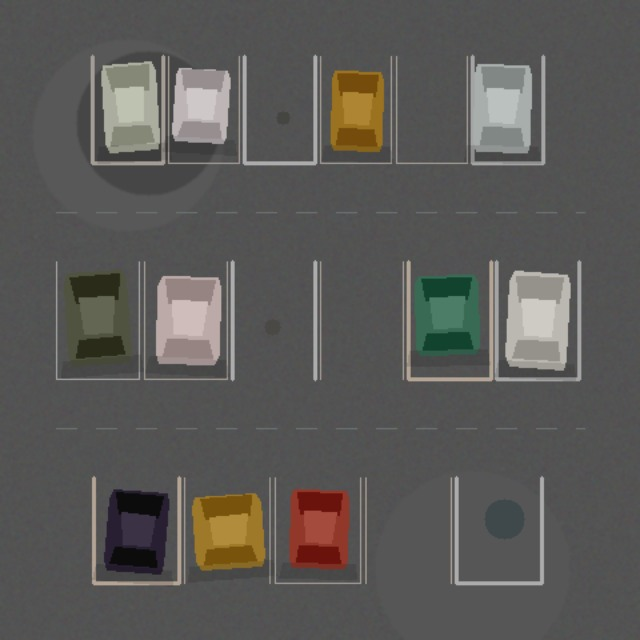space-empty: (232, 261, 315, 379), (320, 261, 403, 379), (365, 477, 451, 583), (456, 477, 541, 583), (244, 56, 315, 163), (396, 56, 467, 163)
space-occupied: (56, 261, 139, 379), (144, 261, 227, 379), (408, 261, 491, 379), (496, 261, 579, 379), (93, 477, 179, 583), (184, 477, 269, 583), (275, 477, 360, 583), (92, 56, 163, 163), (168, 56, 239, 163), (320, 56, 391, 163), (472, 56, 543, 163)
